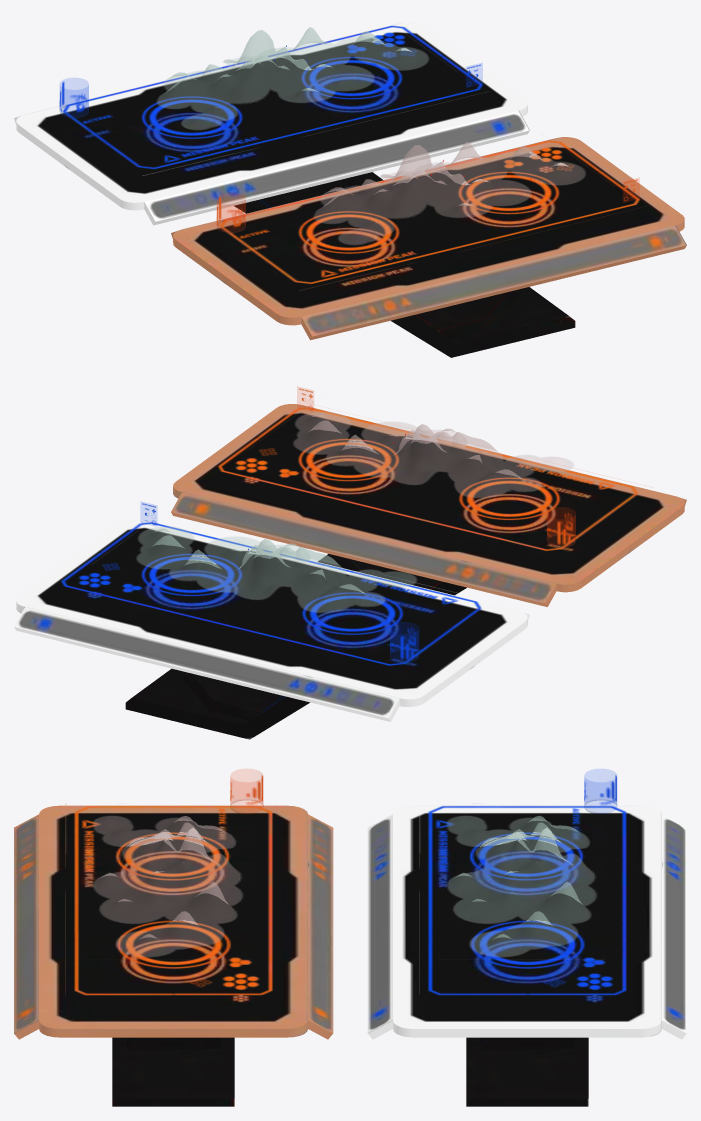
The model's file is hologram-table.glb.
The picture shows the model from 3 angles, top to bottom: view 1: azimuth 30°, elevation 25°; view 2: azimuth 150°, elevation 25°; view 3: azimuth 270°, elevation 25°; orthographic projection. The views are drawn at different scales.
Parts seen in each view (by area): view 1: HT1_T1_tex2_0, HT_T1_tex1_0; view 2: HT_T1_tex1_0, HT1_T1_tex2_0; view 3: HT1_T1_tex2_0, HT_T1_tex1_0.
Part boxes in pixels (x1,y1,x2,y2): HT1_T1_tex2_0: [171, 137, 686, 357]; HT_T1_tex1_0: [14, 22, 529, 225]; HT_T1_tex1_0: [14, 502, 529, 739]; HT1_T1_tex2_0: [171, 387, 686, 606]; HT1_T1_tex2_0: [14, 769, 333, 1106]; HT_T1_tex1_0: [367, 769, 686, 1106].
Size of the model in its own units: 2.62 by 1.15 by 3.34.
Materials: 2 (2 with a texture image).
